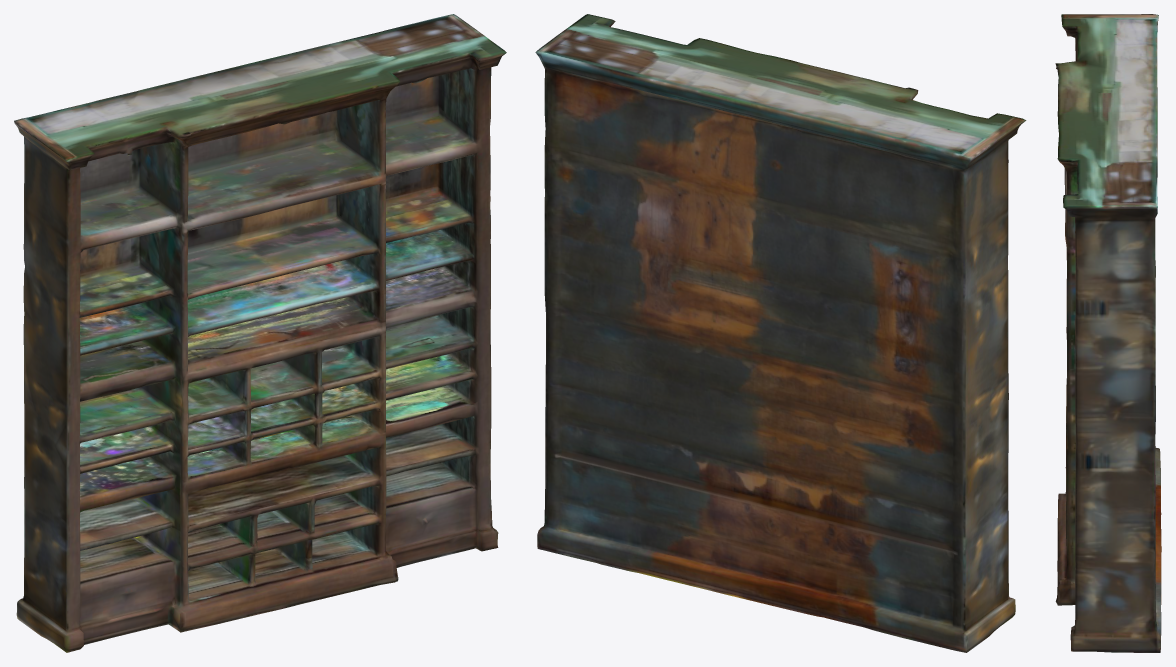
3 renders of one model, left to right at view 1: azimuth 30°, elevation 25°; view 2: azimuth 150°, elevation 25°; view 3: azimuth 270°, elevation 25°, orthographic. The views are drawn at different scales.
Visible parts, largest first — view 1: Mesh1.0; view 2: Mesh1.0; view 3: Mesh1.0.
Part boxes in pixels (x1,y1,x2,y2): Mesh1.0: [14, 14, 506, 652]; Mesh1.0: [535, 14, 1026, 652]; Mesh1.0: [1055, 14, 1161, 652].
Bounding box in the file's own units: 185 × 200 × 42.81.
Materials: 1 (1 with a texture image).
